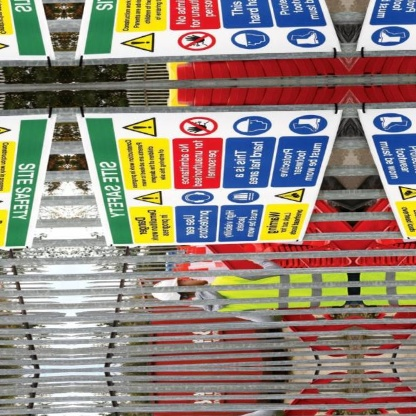vest: (207, 269, 351, 315)
white: (148, 276, 183, 304)
